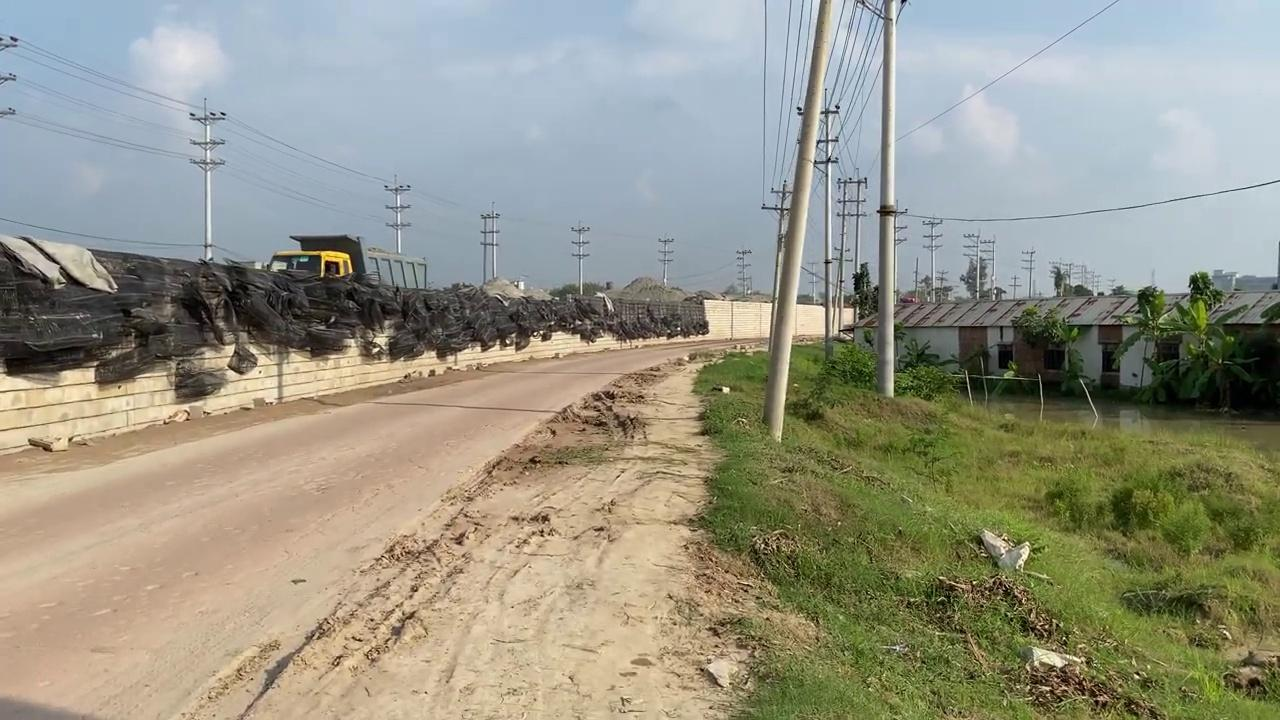Pole: (761, 0, 833, 442), (874, 0, 897, 398)
Rickshaw: (407, 330, 775, 710)
Tree: (265, 233, 428, 290)
Upstairs: (0, 233, 708, 383)
